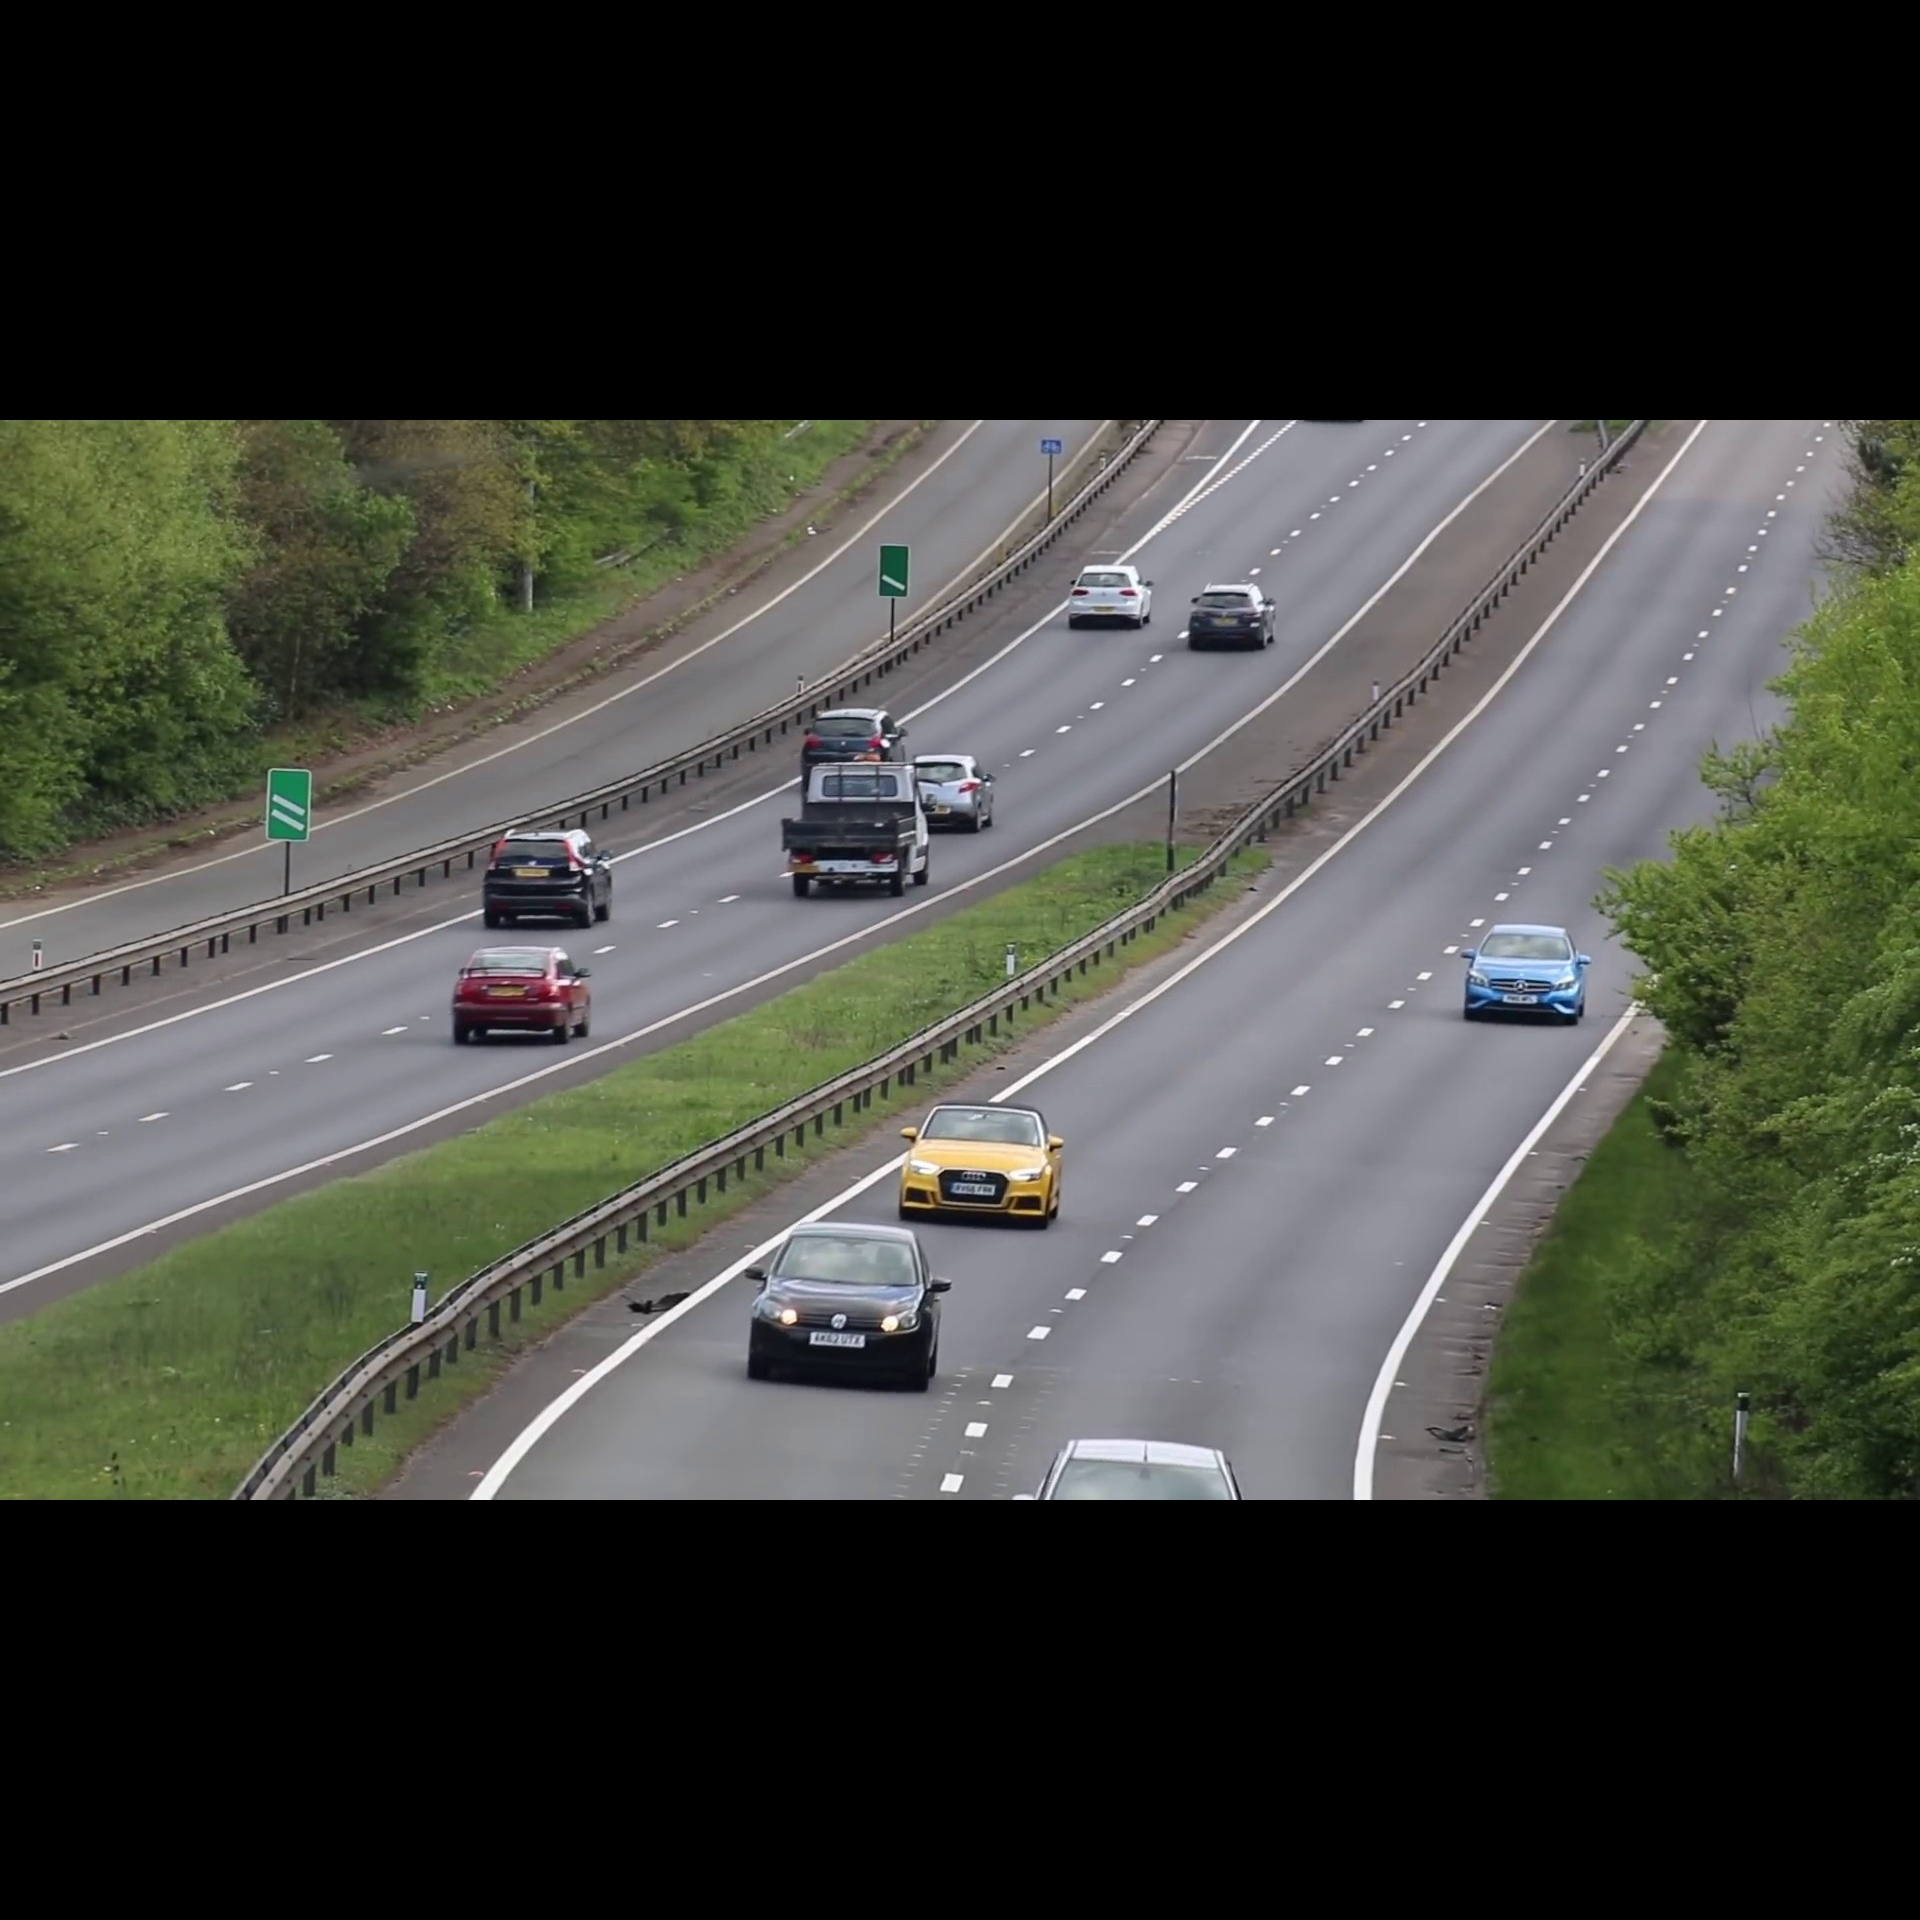vehicle: (738, 1218, 946, 1387), (897, 1094, 1064, 1225), (777, 763, 928, 893), (1449, 913, 1604, 1034), (485, 823, 628, 934), (447, 942, 596, 1044), (1183, 580, 1282, 652), (921, 751, 999, 833), (798, 707, 909, 761), (1064, 563, 1153, 628)
